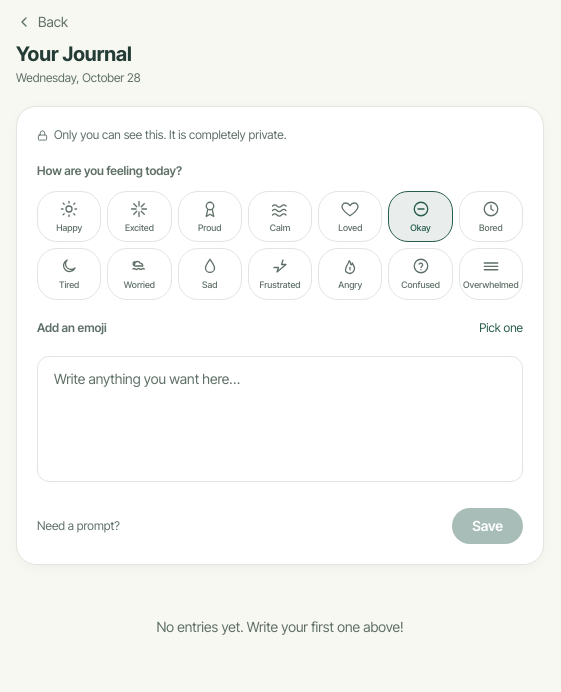
can choose a journal mood, request a prompt, and save writing
Click the button "Need a prompt?" at (78,526), box [37, 518, 120, 534]
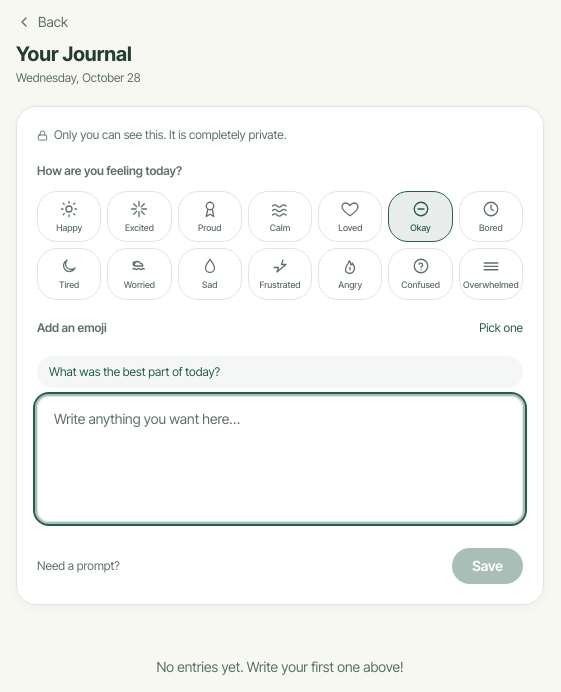
Type "Today I asked for more time." into the text box with placeholder "Write anything you want here…" at (280,458), box [37, 396, 523, 522]
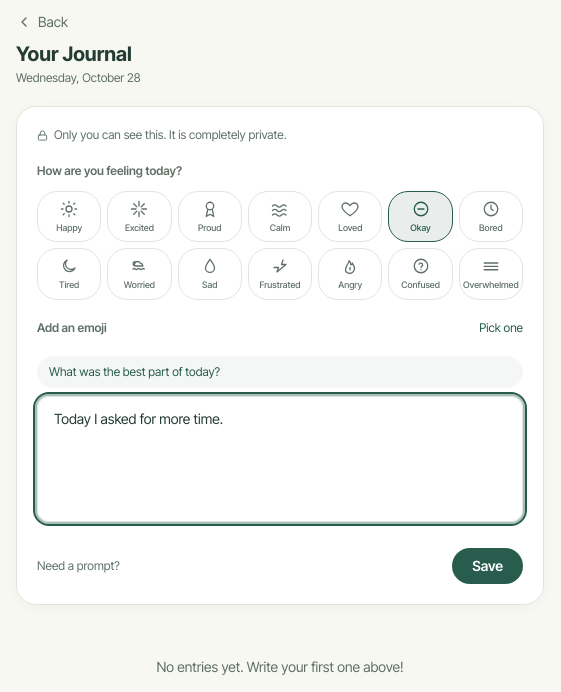
Click the button "Happy" at (69,217), box [37, 191, 101, 242]
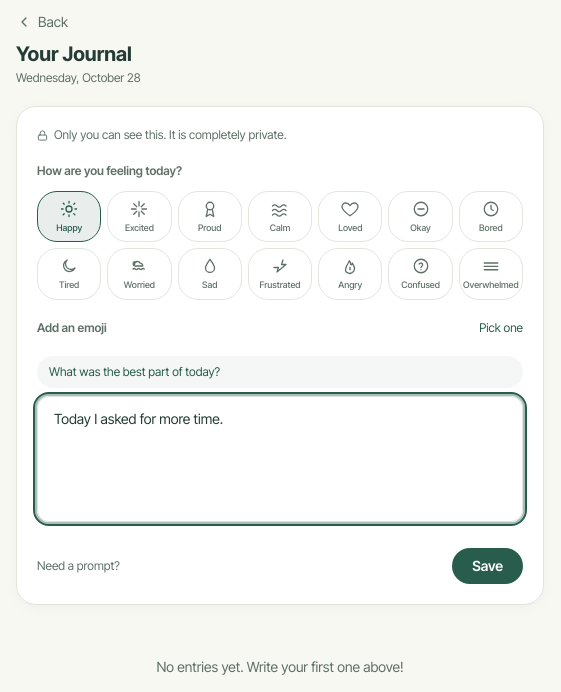
Click the button "Save" at (488,566), box [452, 548, 523, 584]
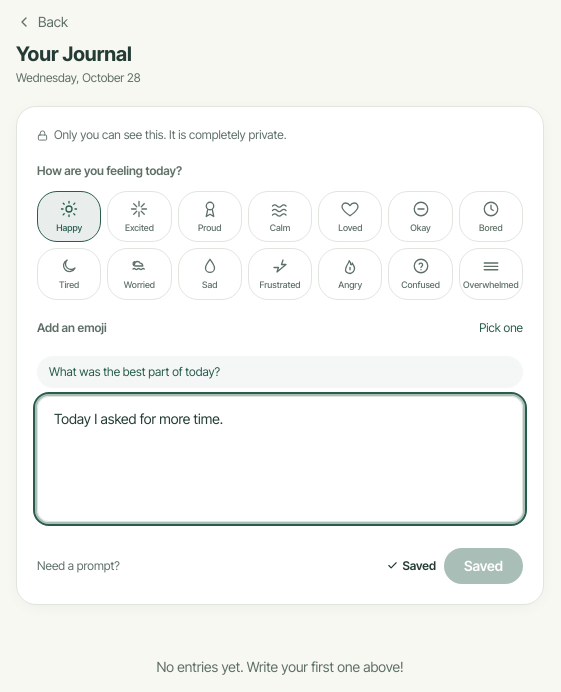
expect the button "Saved" is shown: met, box [444, 548, 523, 584]
